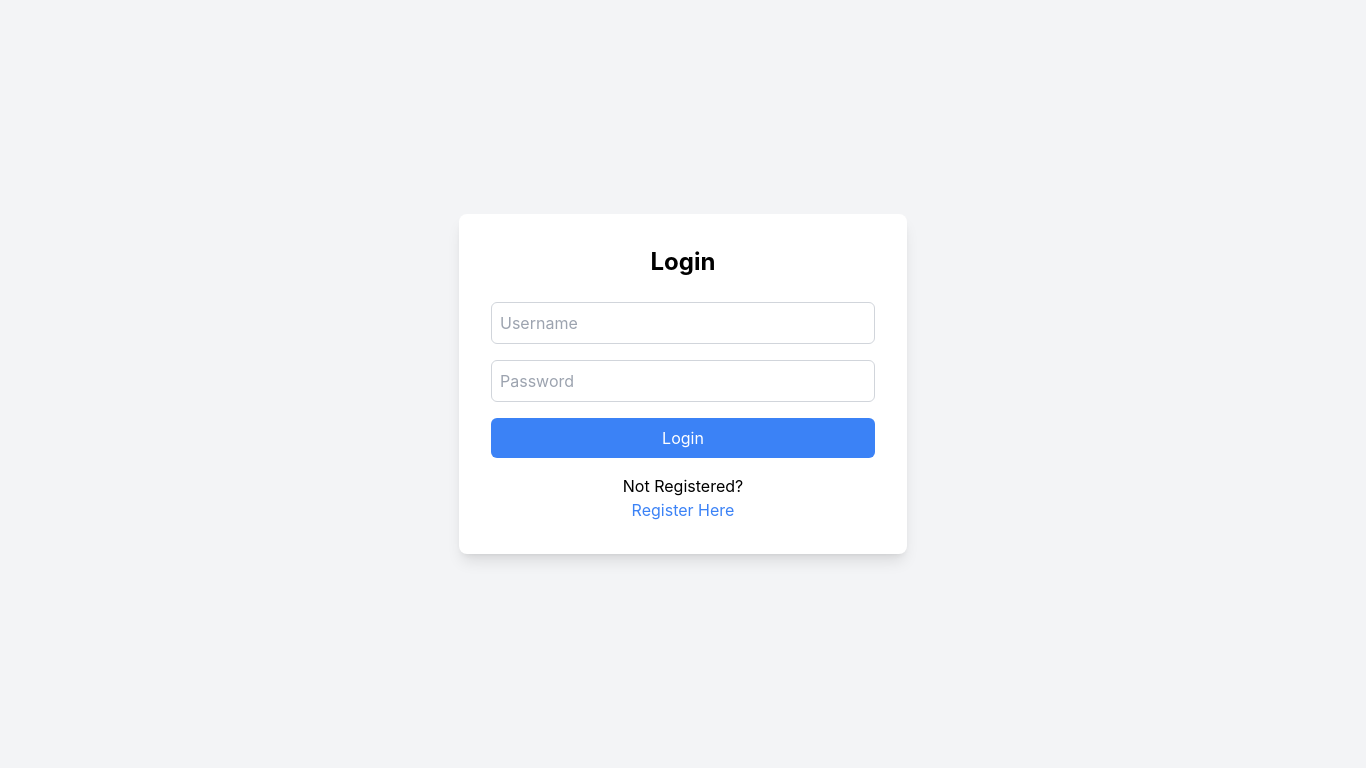
Test case: Login Component › failed login displays error message
The width and height of the screenshot is (1366, 768).
In the field with placeholder "Username": (683, 323) [491, 302, 875, 344], type "wronguser"
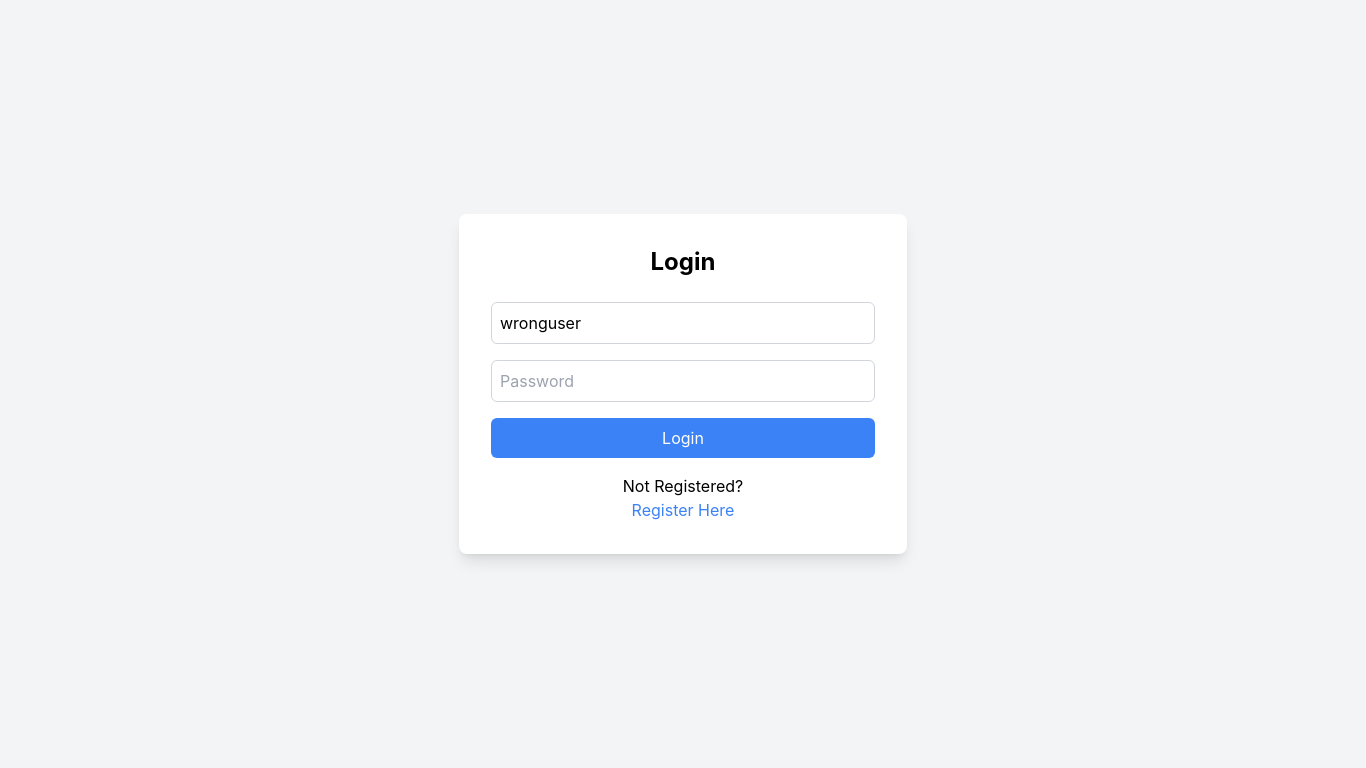
In the password field with placeholder "Password": (683, 381) [491, 360, 875, 402], type "wrongpassword"
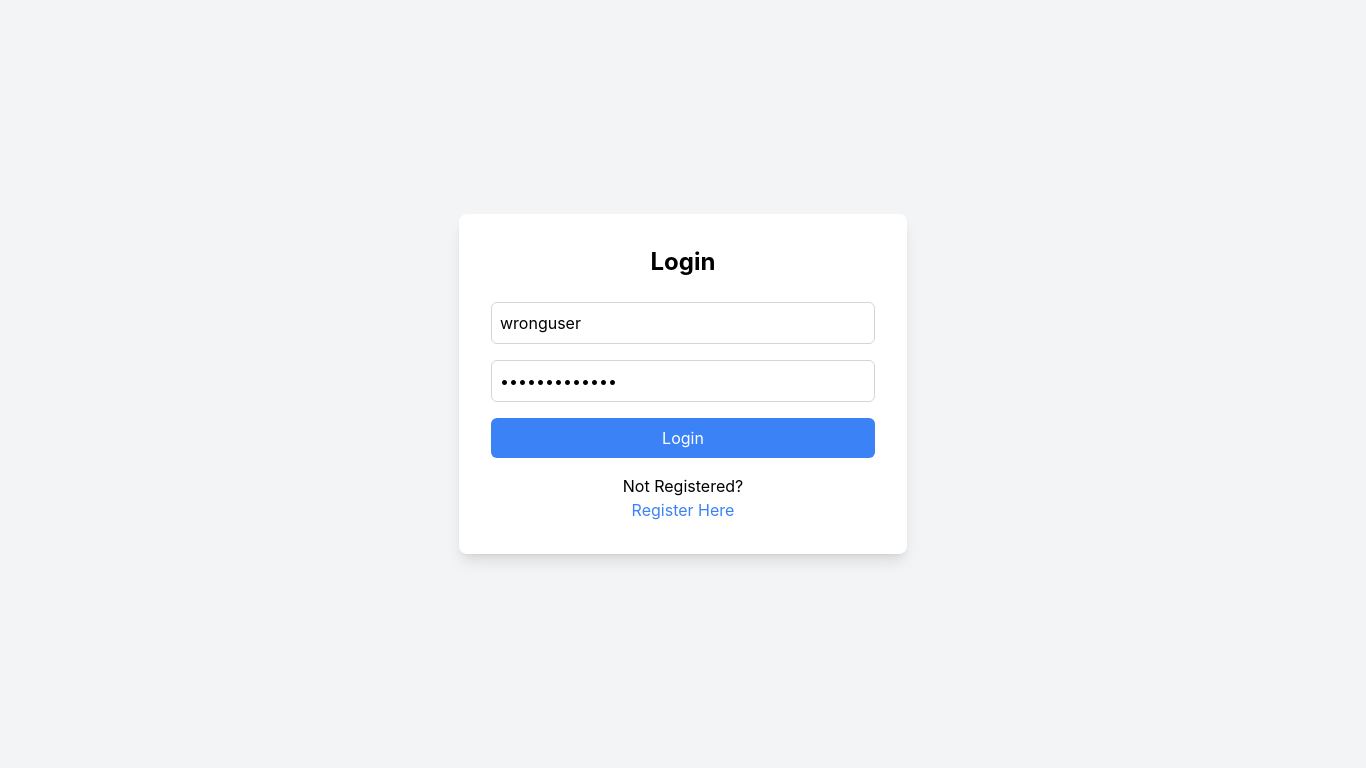
Click the button "Login": (683, 438) [491, 418, 875, 458]
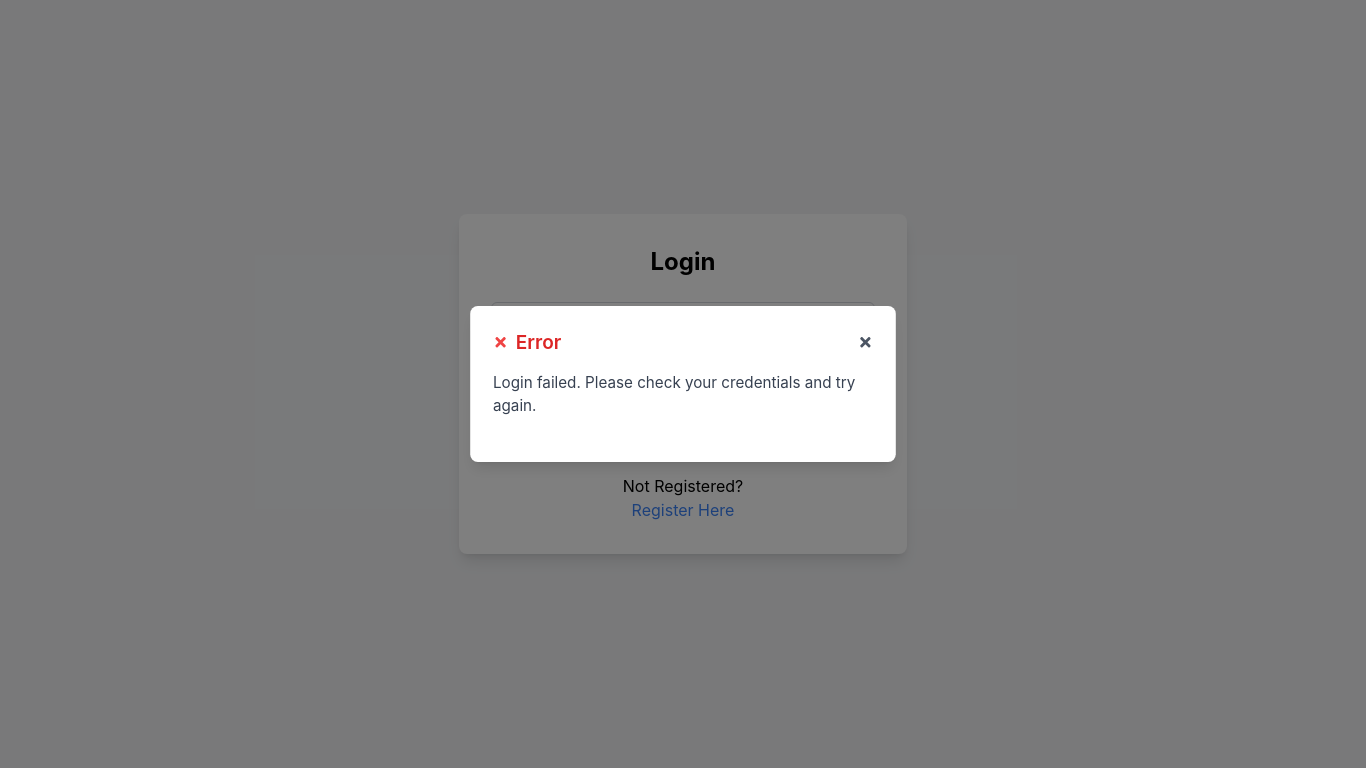
Now the text "Login failed. Please check your credentials and try again." is shown, box [493, 371, 873, 416]
